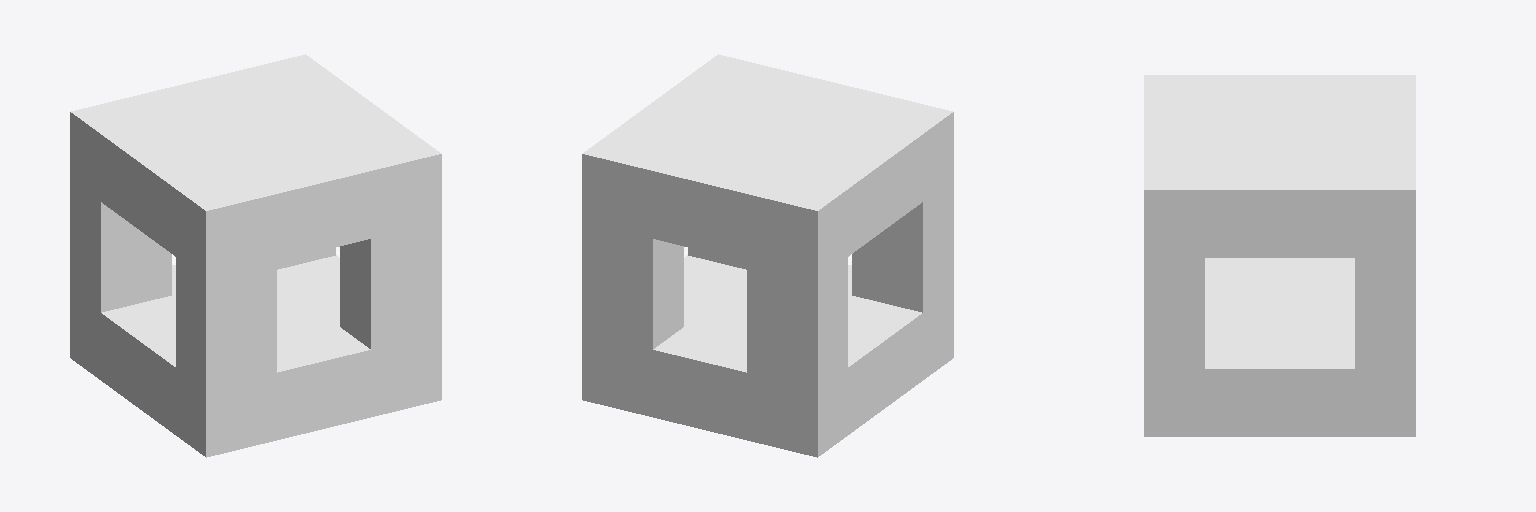
File: playerv4.obj
The picture shows the model from 3 angles: view 1: azimuth 30°, elevation 25°; view 2: azimuth 150°, elevation 25°; view 3: azimuth 270°, elevation 25°; orthographic projection.
Parts seen in each view (by area): view 1: object 1; view 2: object 1; view 3: object 1.
Part boxes in pixels (bbox=[...]): object 1: bbox=[70, 54, 441, 457]; object 1: bbox=[582, 54, 953, 457]; object 1: bbox=[1144, 75, 1415, 436].
Bounding box in the file's own units: 4 × 4 × 4.